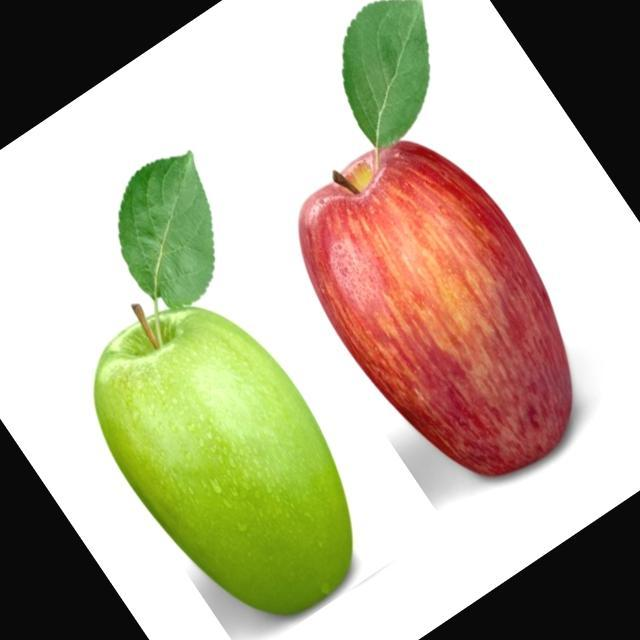Green Apple: (93, 304, 354, 617)
Red Apple: (298, 139, 574, 478)
